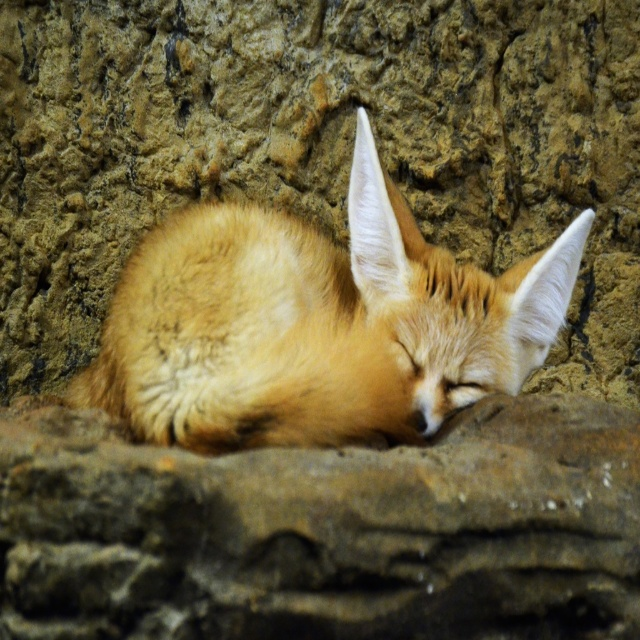Fox: (59, 101, 598, 457)
